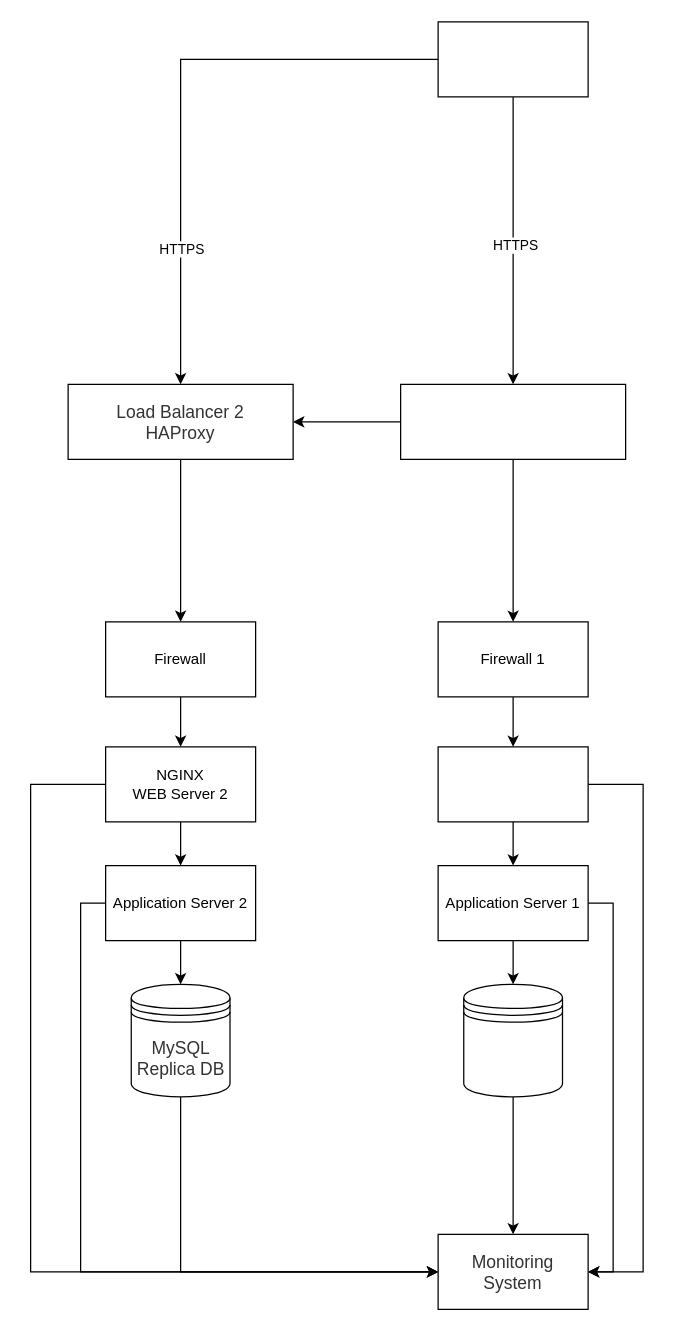
Image size: 675x1331. Some labels were removed from this diagram. Each missing label, with the centre of its shape:
"Load Balancer 1 HAProxy" belongs at point (512, 421).
"MySQL Primary DB" belongs at point (512, 1040).
"NGINX WEB Server 1" belongs at point (512, 784).
"User Browser" belongs at point (512, 59).
